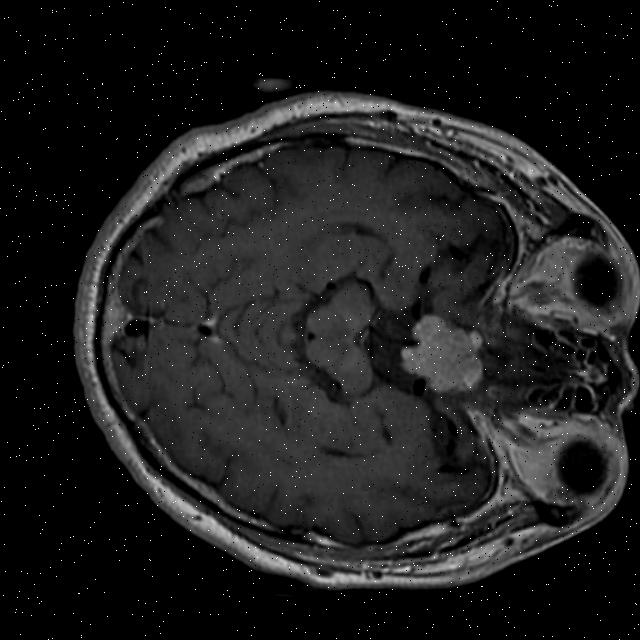Pituitary: (395, 311, 487, 394)
